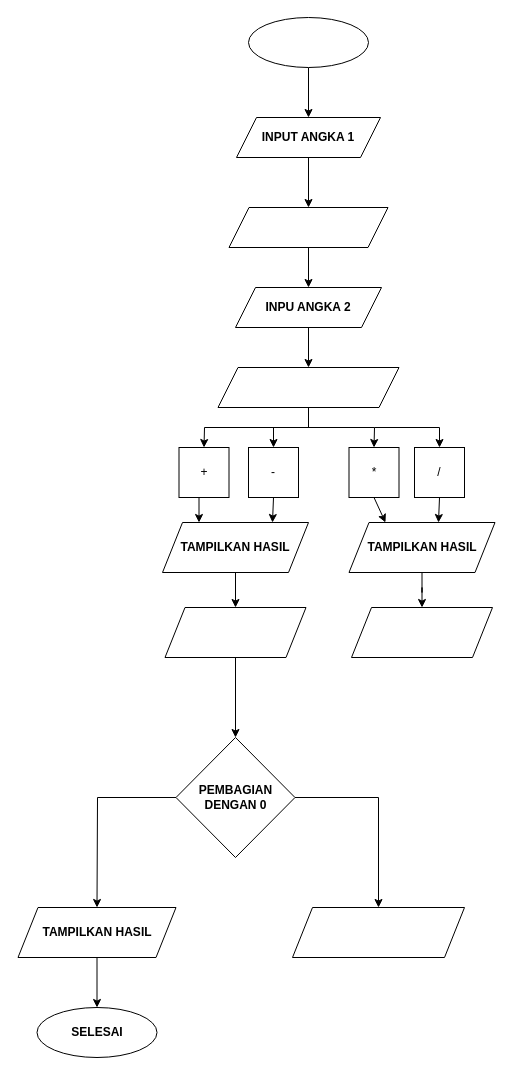
Some shapes in this 512 by 1075 pixel diagram are drawn without their labels. Here are the shapes that lost their labels. From the top down, the box of each, then its label:
(248, 16, 368, 68): MULAI
(228, 206, 388, 248): INPUT OPERATOR
(217, 366, 399, 408): CEK OPERATOR
(164, 606, 306, 658): CEK PEMBAGIAN
(350, 606, 492, 658): ERROR : INVALID
(292, 906, 464, 958): ERROR : PEMBAGIAN DENGAN 0
